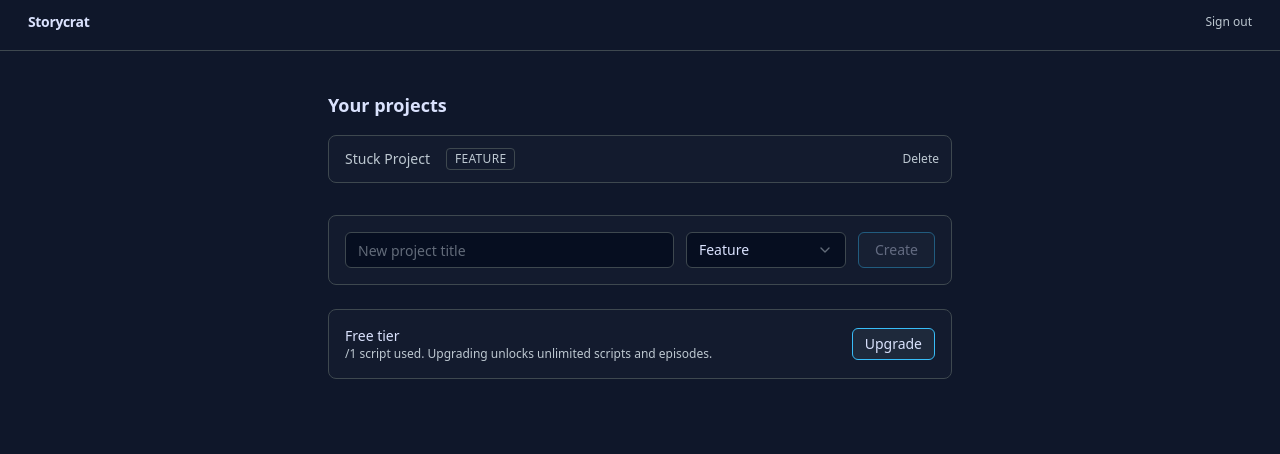
Test: App shell › surfaces a feature-project open failure instead of leaving a dead button
Click the button "Stuck Project feature" at (387, 158), box x1=329 y1=136 x2=890 y2=182
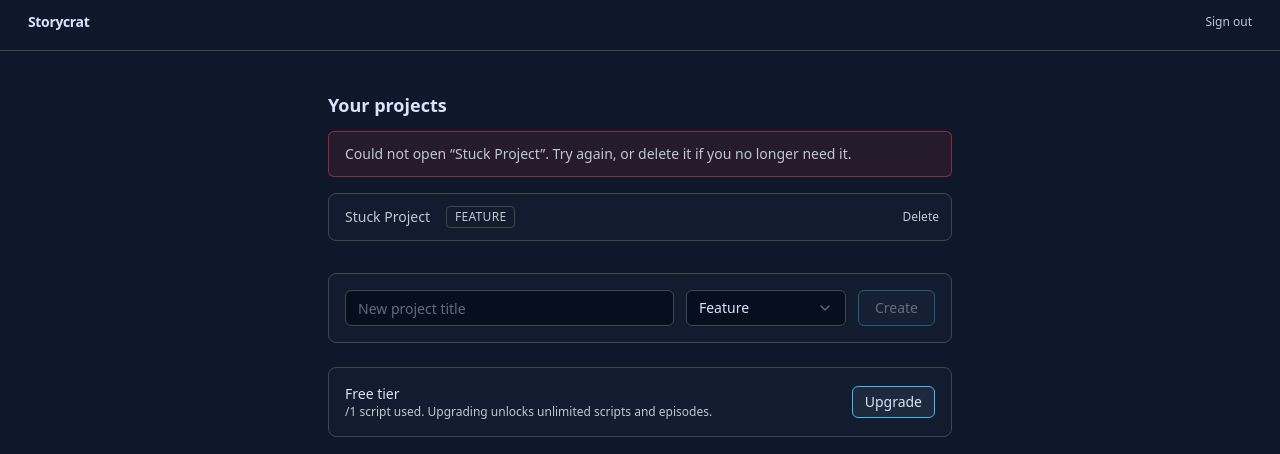
Result: the message shows "Could not open" at x1=345 y1=144 x2=852 y2=163
